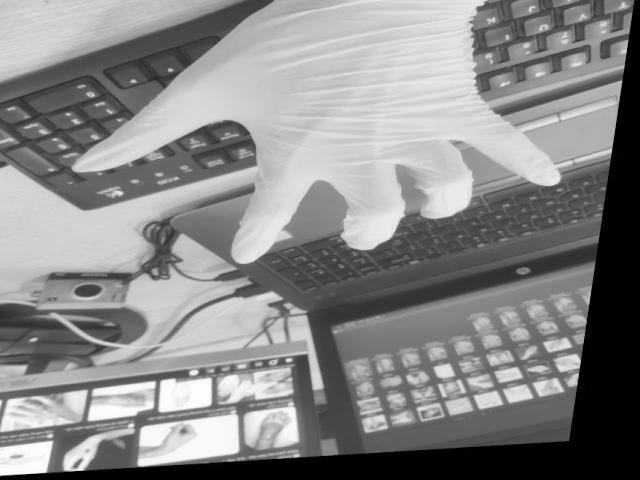gloved: (78, 0, 558, 256)
